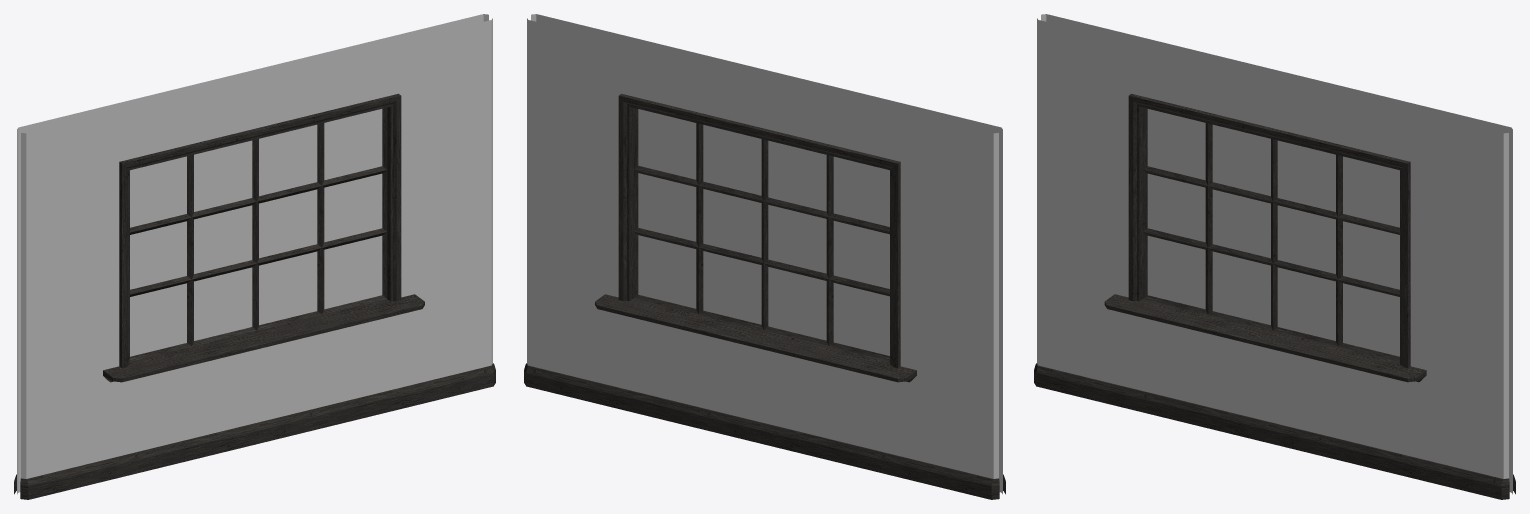
File: window_2_2_double.fbx
3 renders of one model, left to right at view 1: azimuth 30°, elevation 25°; view 2: azimuth 150°, elevation 25°; view 3: azimuth 330°, elevation 25°, orthographic.
Parts seen in each view (by area): view 1: window_2_2_double; view 2: window_2_2_double; view 3: window_2_2_double.
Boxes of the visible parts, x1=… form: window_2_2_double: x1=14, y1=14, x2=495, y2=499; window_2_2_double: x1=524, y1=14, x2=1005, y2=499; window_2_2_double: x1=1034, y1=14, x2=1515, y2=499.
Size of the model in its own units: 4.09 by 3 by 0.52.
